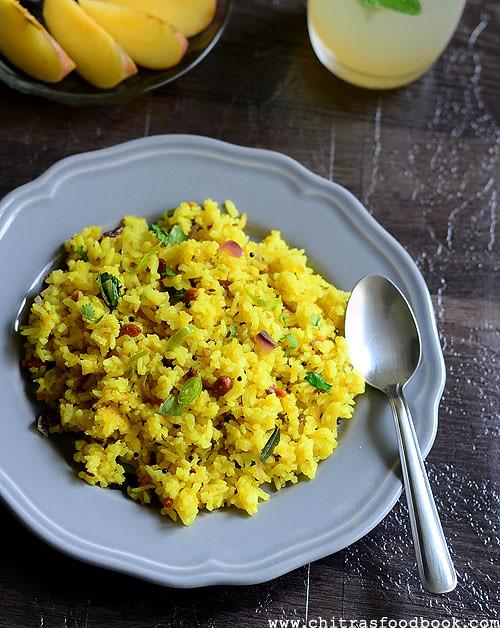poha: (7, 202, 400, 530)
